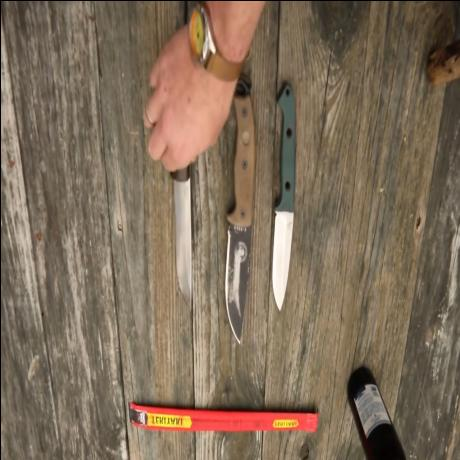1: (144, 0, 264, 174)
weapon: (218, 66, 257, 350), (266, 77, 300, 320), (168, 152, 194, 316)
